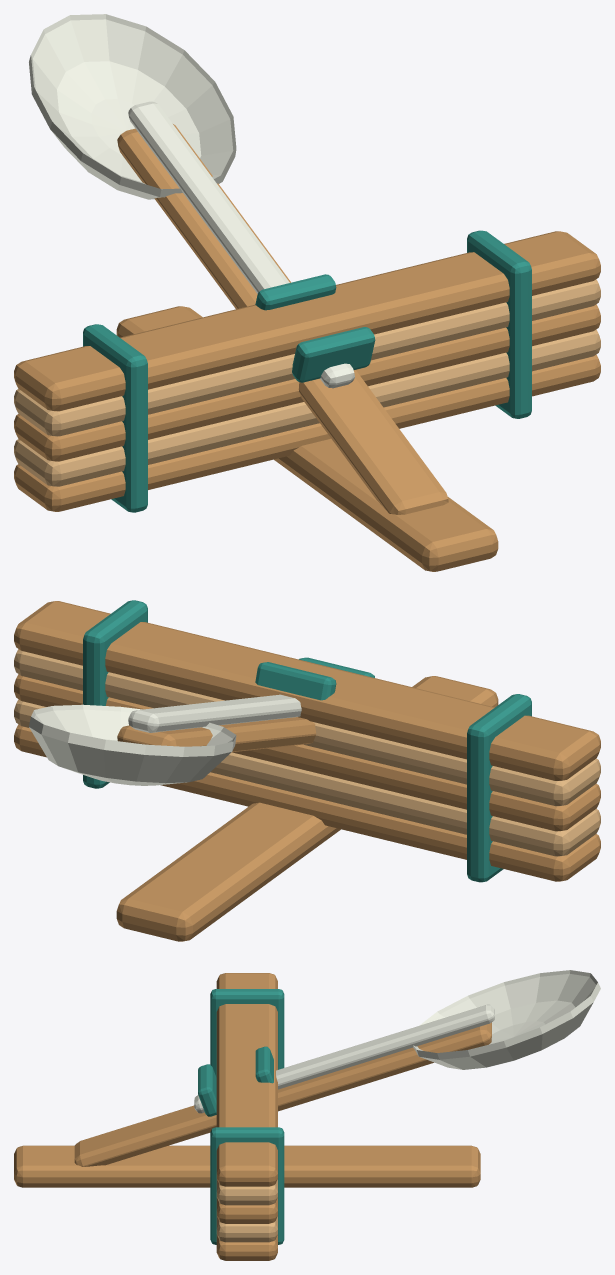
The model's file is NEW_RECOVERY_129_LOD2.glb.
The picture shows the model from 3 angles, top to bottom: view 1: azimuth 30°, elevation 25°; view 2: azimuth 150°, elevation 25°; view 3: azimuth 270°, elevation 25°; orthographic projection. The views are drawn at different scales.
Parts seen in each view (by area): view 1: Static craft display; view 2: Static craft display; view 3: Static craft display.
Boxes of the visible parts, bbox=[...] form: Static craft display: bbox=[14, 14, 600, 571]; Static craft display: bbox=[14, 600, 600, 941]; Static craft display: bbox=[14, 970, 600, 1260].
Size of the model in its own units: 3.7 by 1.69 by 4.59.
